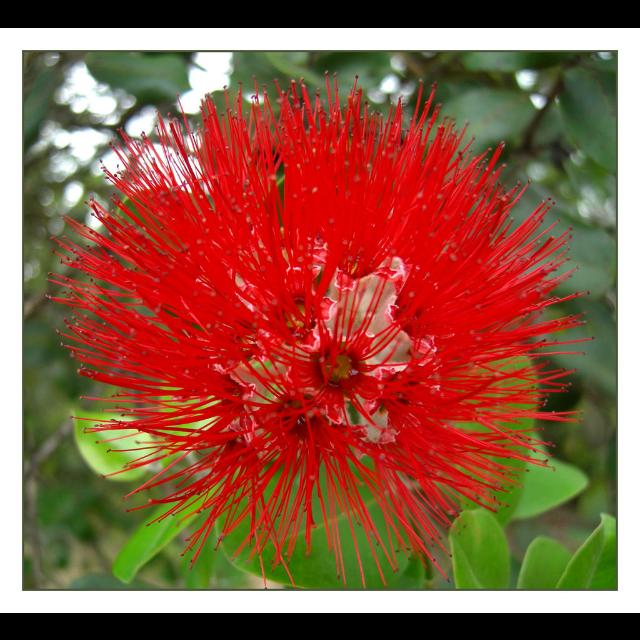Flower: (35, 88, 609, 572)
